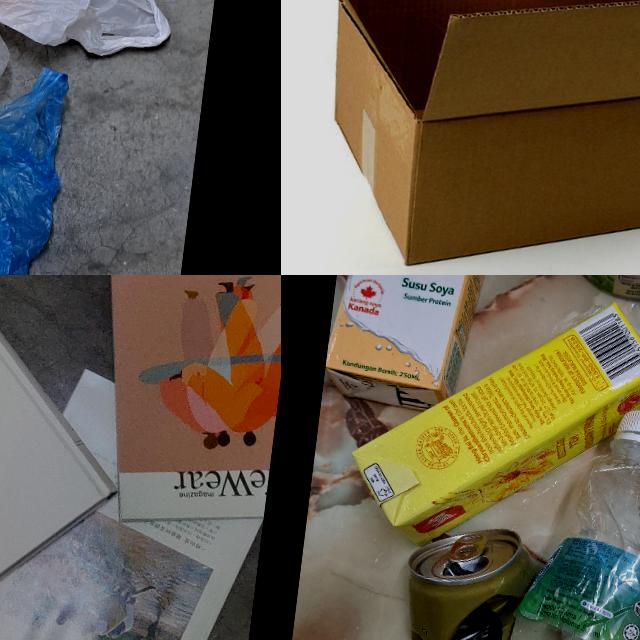aba de lata: (448, 530, 489, 564)
caixinha: (339, 275, 640, 570), (322, 275, 507, 415)
garrafa plástica: (281, 0, 640, 275), (492, 432, 640, 640)
lata: (359, 513, 552, 640)
papel: (0, 275, 281, 640)
sacola plástica: (0, 39, 79, 275)
tampa plástica: (613, 407, 640, 458)
